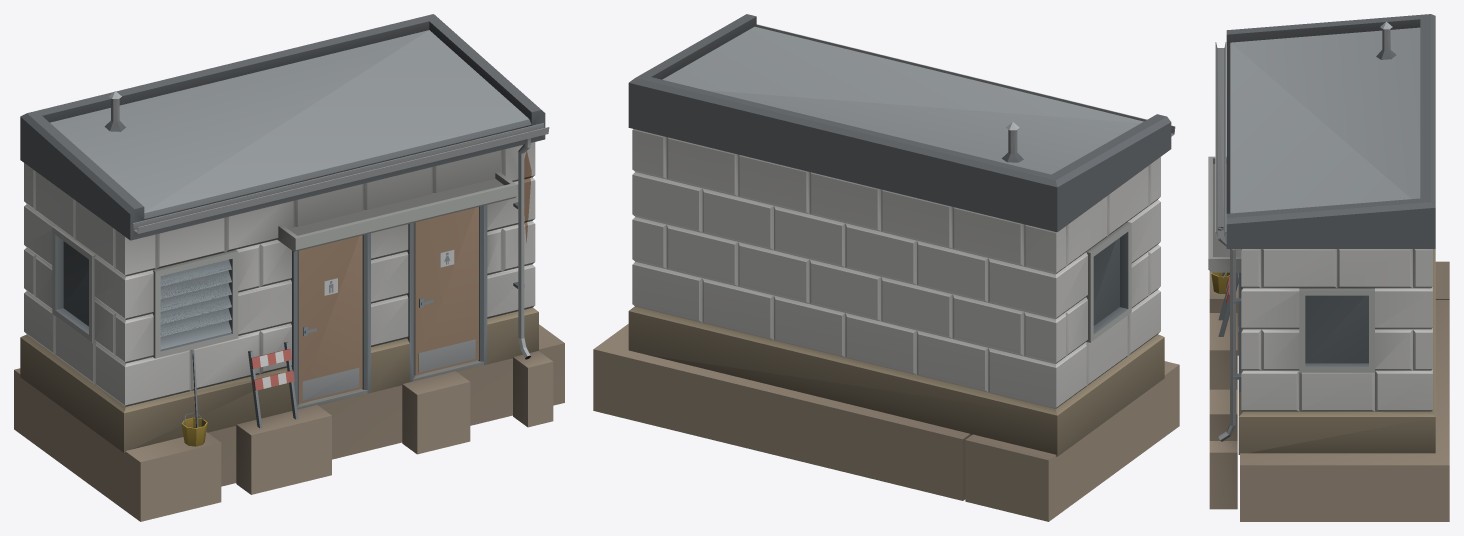
Rendered from toilets.glb.
3 views of the same model, side by side, from view 1: azimuth 30°, elevation 25°; view 2: azimuth 150°, elevation 25°; view 3: azimuth 270°, elevation 25° (orthographic). The views are drawn at different scales.
Parts seen in each view (by area): view 1: toilets; view 2: toilets; view 3: toilets.
Part boxes in pixels (left/top/right/bottom): toilets: left=14, top=14, right=564, bottom=521; toilets: left=593, top=14, right=1179, bottom=521; toilets: left=1208, top=14, right=1449, bottom=521.
Size of the model in its own units: 7.98 by 5.98 by 3.98.
